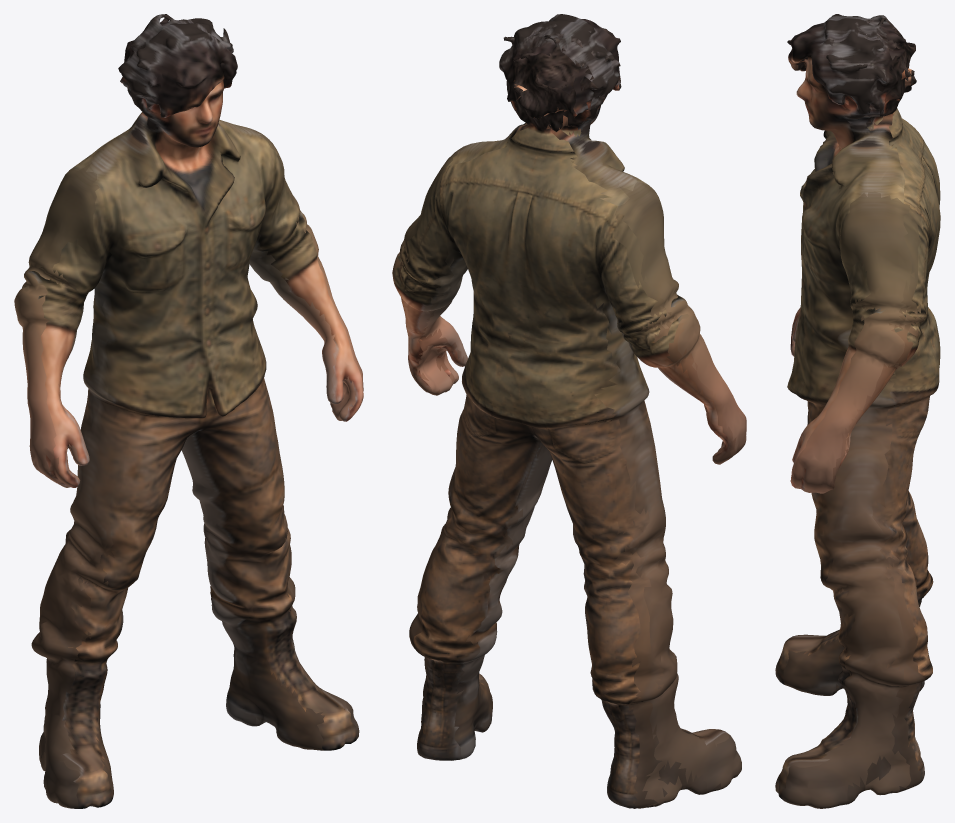
File: body-candidate.fbx
3 renders of one model, left to right at view 1: azimuth 30°, elevation 25°; view 2: azimuth 150°, elevation 25°; view 3: azimuth 270°, elevation 25°, orthographic. The views are drawn at different scales.
Parts seen in each view (by area): view 1: BaseBody Hunyuan3D-2mini; view 2: BaseBody Hunyuan3D-2mini; view 3: BaseBody Hunyuan3D-2mini.
Boxes of the visible parts, <box> form: BaseBody Hunyuan3D-2mini: <box>14,14,363,808</box>; BaseBody Hunyuan3D-2mini: <box>392,14,746,808</box>; BaseBody Hunyuan3D-2mini: <box>775,14,940,808</box>.
Bounding box in the file's own units: 84.76 × 182 × 37.9.
Materials: 1 (1 with a texture image).
